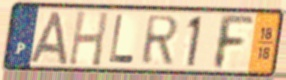1: (185, 14, 204, 69)
A: (27, 9, 70, 66)
F: (213, 12, 256, 72)
H: (66, 9, 111, 69)
L: (107, 14, 136, 66)
R: (139, 14, 181, 67)
